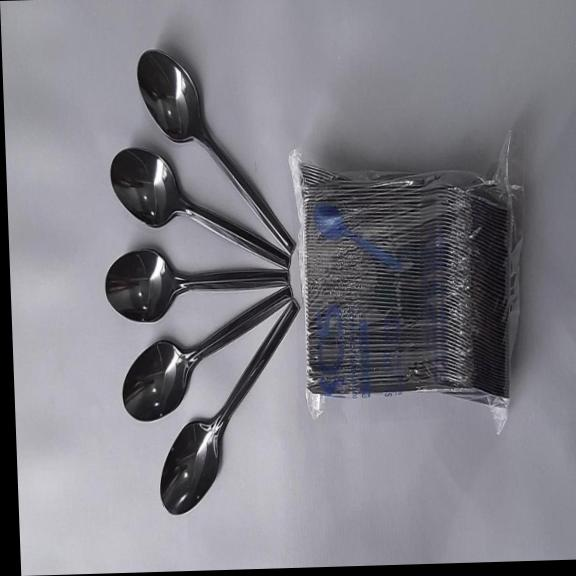Plastik: (138, 49, 295, 254), (161, 299, 299, 513), (122, 286, 291, 420), (110, 147, 289, 267), (106, 249, 289, 321), (313, 202, 401, 268)
